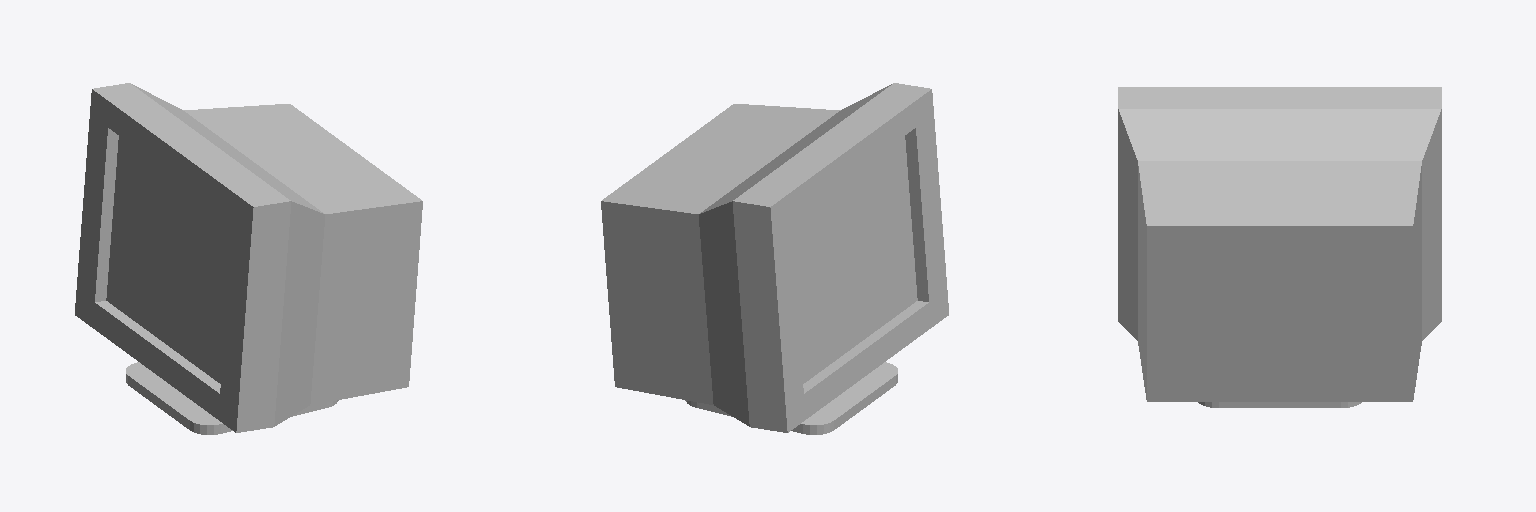
File: kurty.obj
3 renders of one model, left to right at view 1: azimuth 30°, elevation 25°; view 2: azimuth 150°, elevation 25°; view 3: azimuth 270°, elevation 25°, orthographic.
Visible parts, largest first — view 1: Cube, Cube.001; view 2: Cube, Cube.001; view 3: Cube, Cube.001.
Part boxes in pixels (bbox=[...]): Cube: bbox=[75, 83, 422, 432]; Cube.001: bbox=[126, 362, 338, 434]; Cube: bbox=[601, 83, 948, 432]; Cube.001: bbox=[685, 362, 897, 434]; Cube: bbox=[1118, 87, 1441, 401]; Cube.001: bbox=[1198, 402, 1361, 407].
Bounding box in the file's own units: 1.89 × 2.31 × 2.64.